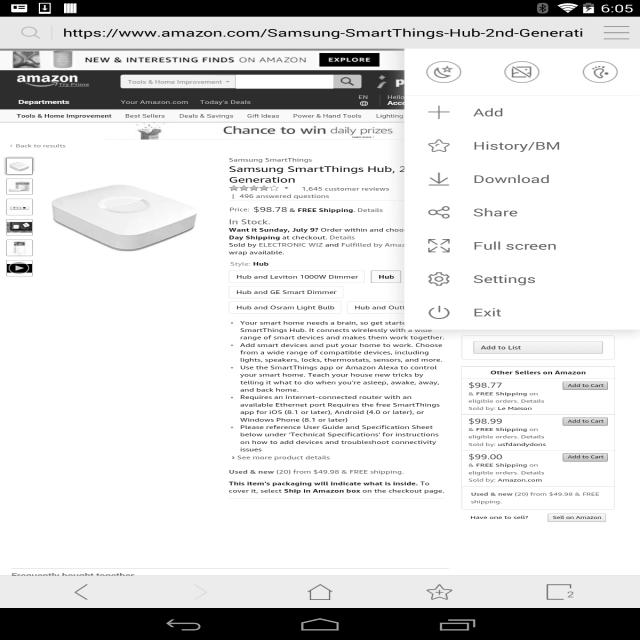Button: (471, 338, 610, 356), (317, 50, 384, 69), (545, 512, 609, 524), (558, 415, 612, 428), (560, 450, 610, 464), (366, 269, 406, 286), (560, 381, 611, 392)
EditText: (232, 73, 367, 90)
ImageButton: (596, 20, 634, 43), (16, 23, 50, 43)
ImageView: (47, 172, 202, 257), (2, 156, 33, 278), (423, 57, 466, 84), (580, 59, 622, 84), (501, 60, 541, 84), (13, 48, 42, 71), (132, 122, 164, 141), (50, 50, 74, 69)
RatingBar: (226, 183, 280, 193)
TextView: (228, 318, 432, 453), (58, 26, 588, 41), (227, 217, 403, 249), (218, 122, 396, 140), (464, 380, 544, 412), (82, 54, 306, 64), (467, 463, 549, 484), (471, 137, 564, 154), (468, 272, 542, 287), (473, 204, 525, 224), (471, 306, 503, 318), (466, 451, 506, 459)
